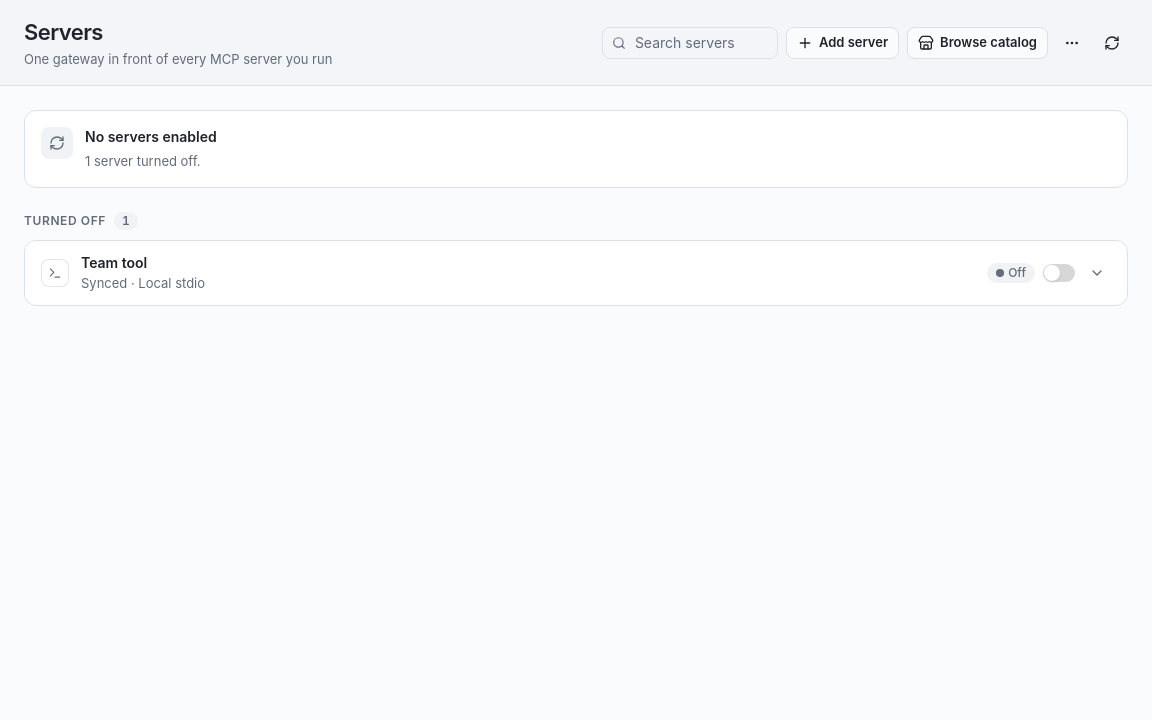
Test: team enable review dialog › shows all personal execution inputs as escaped text with masked secrets
This screenshot has width=1152, height=720.
Click the switch named "Toggle Team tool" at (1059, 273), box [1043, 264, 1075, 282]
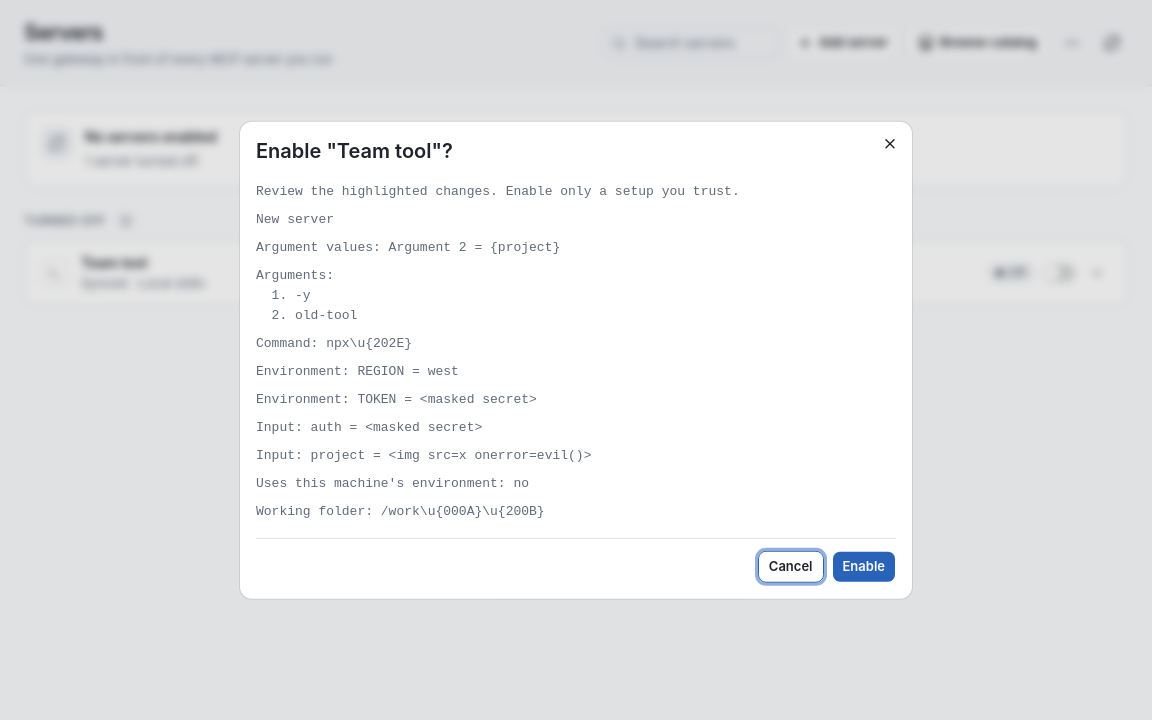
Expected: the text "Command: npx\\u{202E}" is shown, [256, 335, 412, 350]
Expected: the text "Working folder: /work\\u{000A}\\u{200B}" is shown, [256, 503, 545, 518]
Expected: the text "Uses this machine's environment: no" is shown, [256, 475, 529, 490]
